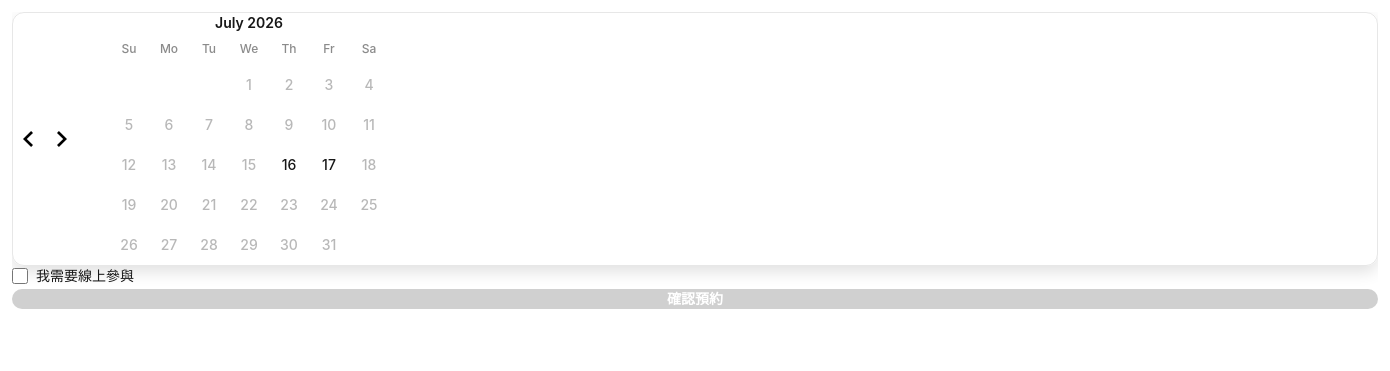
Test: BookingForm › shows a generic error message when the request fails
Click the button "16" at (289, 165), box [269,145,309,185]
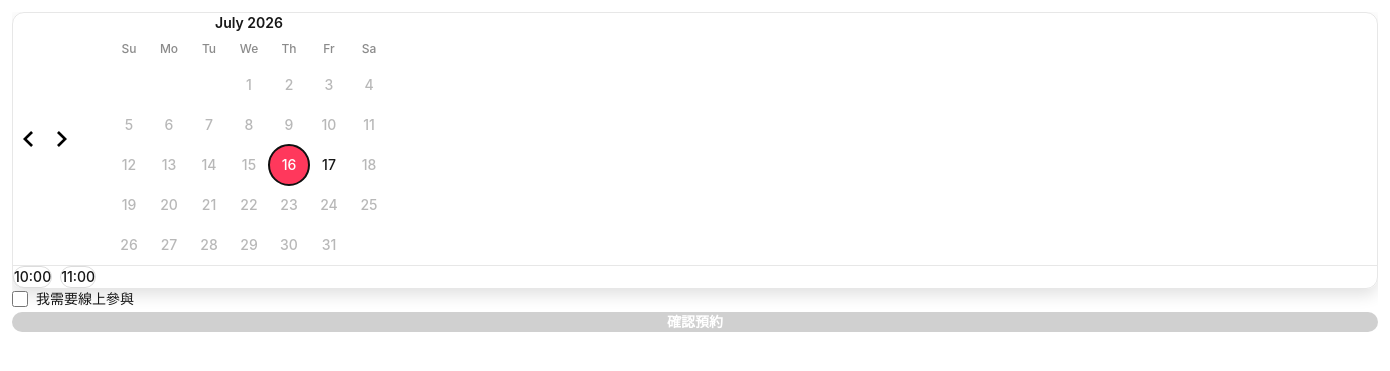
Click the button "10:00" at (33, 277), box [13,266,52,288]
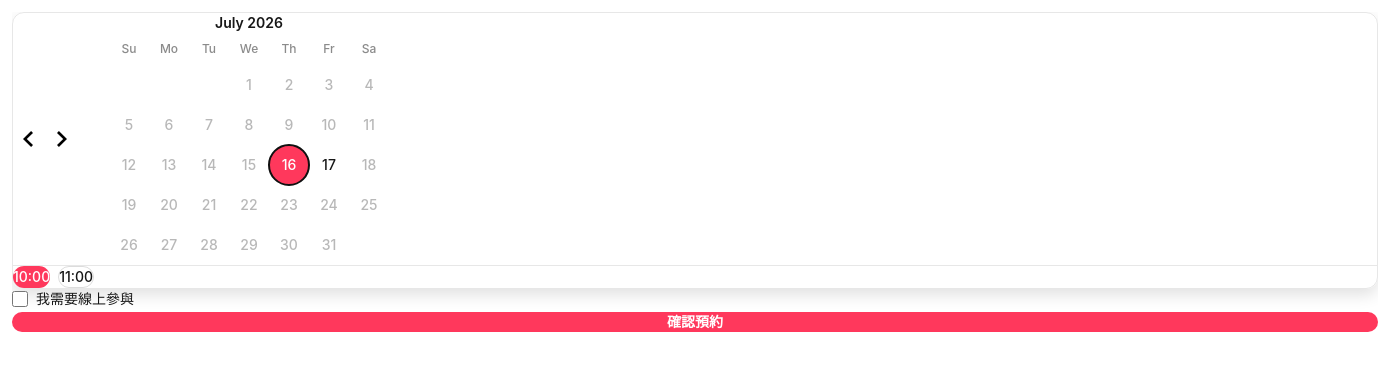
Click the button "確認預約" at (695, 322), box [12,312,1378,332]
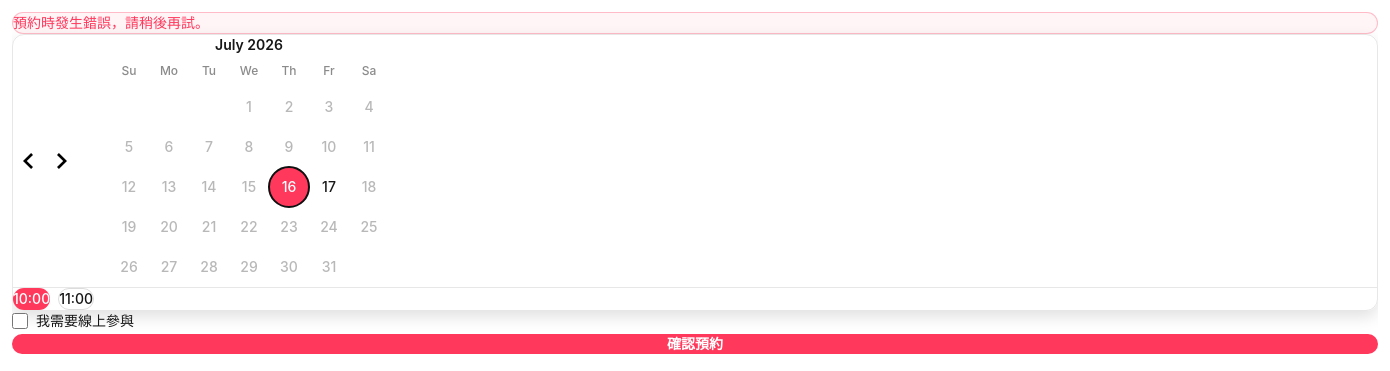
Check: the text "預約時發生錯誤，請稍後再試。" is shown, box [12,12,1378,34]
